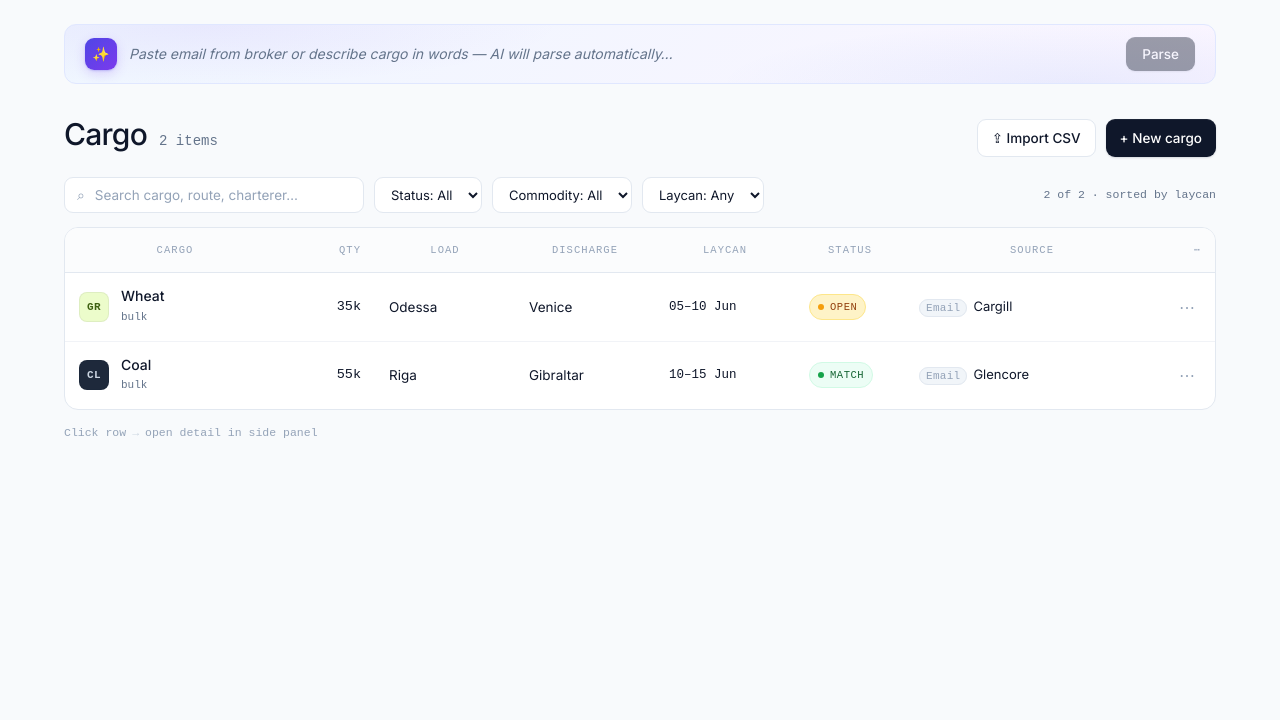
Test: CargoClient › opens side panel when a row is clicked
Step 1. Click the row that starts with "Wheat" → (640, 307), box [65,272,1215,341]
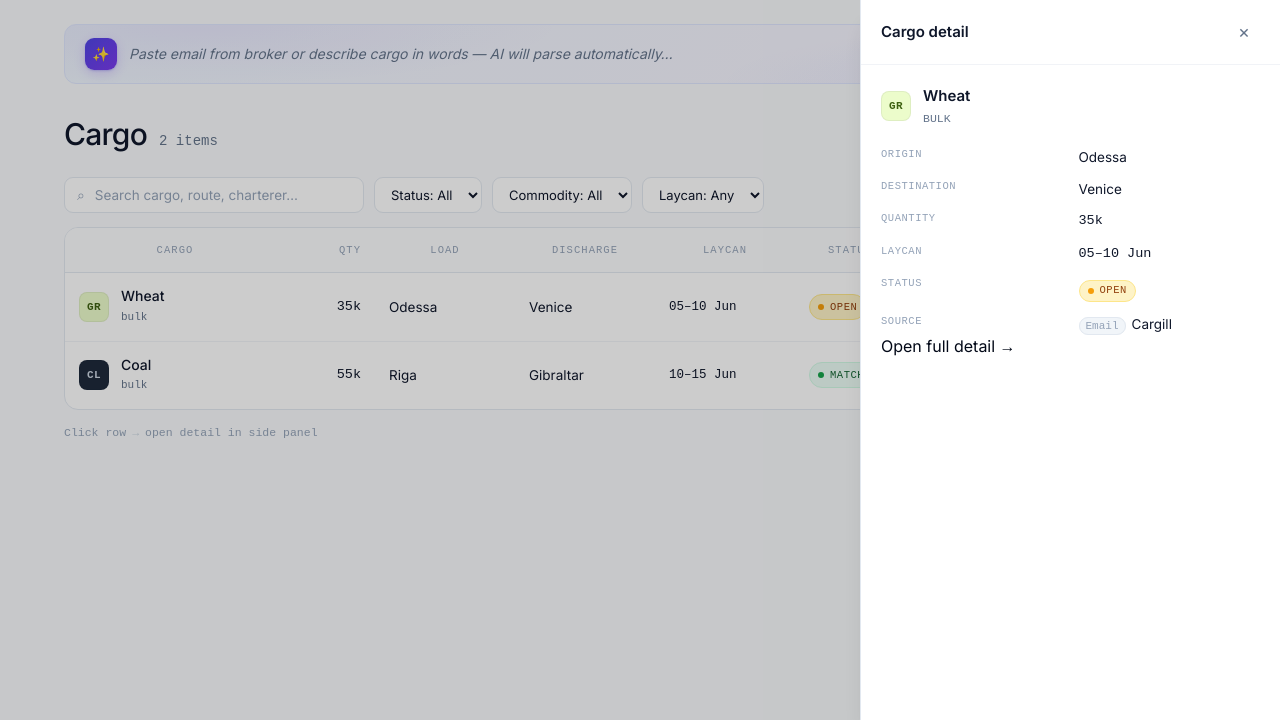
Now the dialog "Cargo detail" is shown, box [860,0,1279,719]
Now the dialog "Cargo detail" shows "Wheat", box [923,86,970,105]
